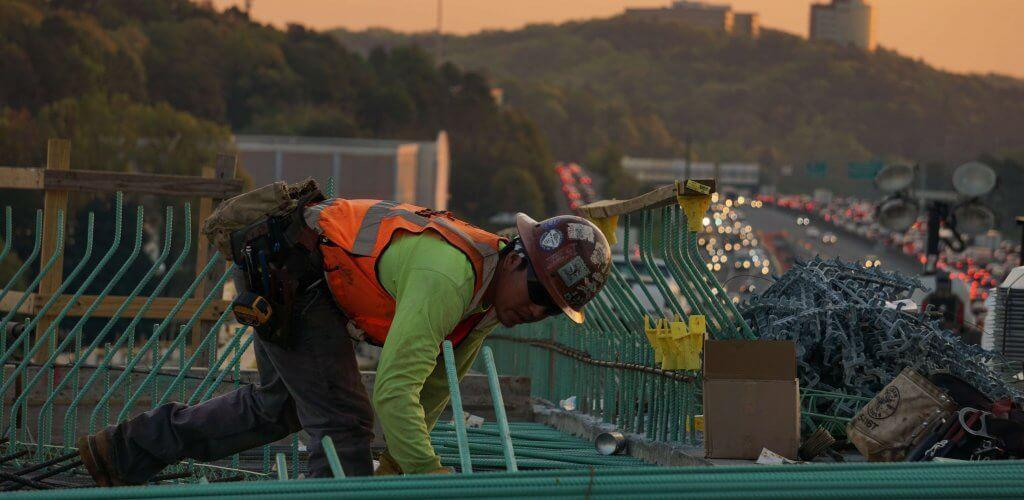hardhat: (512, 213, 615, 328)
worker: (76, 183, 618, 486)
